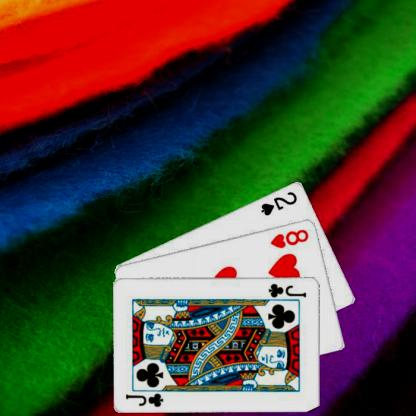2S: (258, 188, 298, 217)
8H: (268, 226, 310, 249)
JC: (266, 280, 308, 298), (124, 390, 164, 408)
